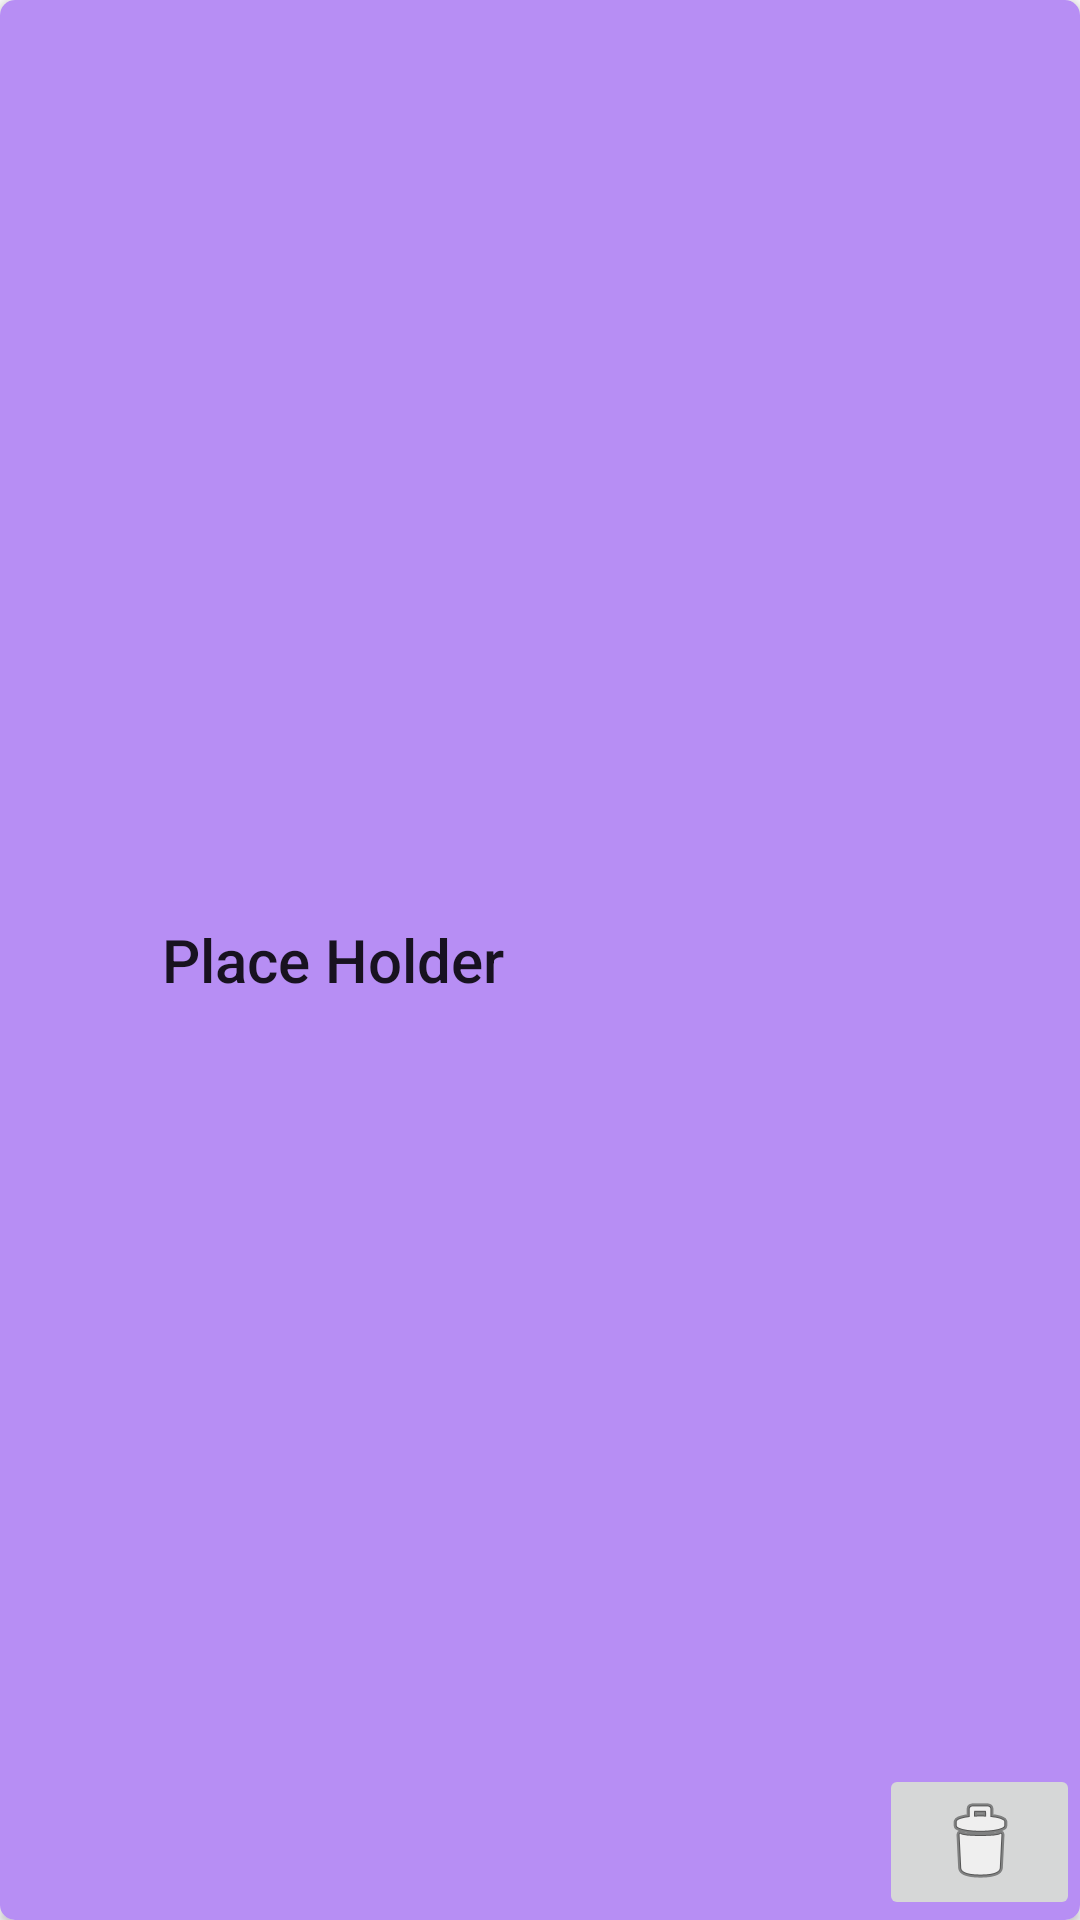

Icons on this 1080px×1920px Android screen, each with the point to tap as (x=x, y=y):
delete: (x=985, y=1851)
